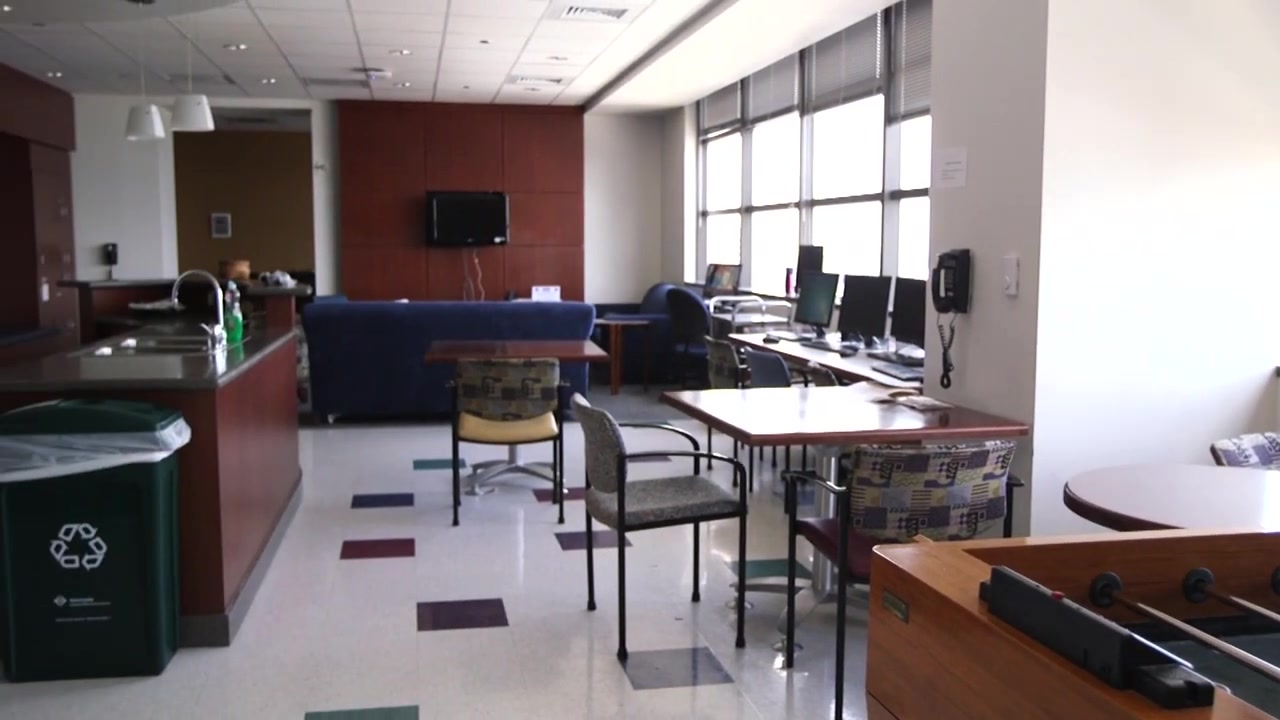TV: (426, 187, 511, 252)
chair: (787, 442, 1022, 720), (572, 393, 748, 665), (452, 360, 565, 524), (668, 285, 711, 361), (1208, 431, 1280, 468), (749, 349, 809, 389), (707, 338, 745, 391)
computer: (837, 274, 892, 339), (792, 271, 839, 327), (892, 275, 924, 348), (707, 262, 742, 303), (799, 246, 825, 293)
counter: (1, 320, 302, 645)
countertop: (1, 320, 300, 389)
faucet: (172, 267, 228, 358)
keyboard: (874, 363, 924, 379)
mouse: (840, 346, 860, 357), (761, 336, 779, 344)
sink: (113, 331, 220, 360)
sofa: (300, 302, 598, 424), (592, 284, 672, 391)
table: (660, 387, 1029, 653), (426, 337, 607, 495), (1064, 456, 1280, 533), (730, 331, 929, 385)
telephone: (931, 247, 972, 314), (97, 233, 122, 284)
utility_cart: (708, 292, 790, 332)
waste_bin: (1, 396, 192, 685)
